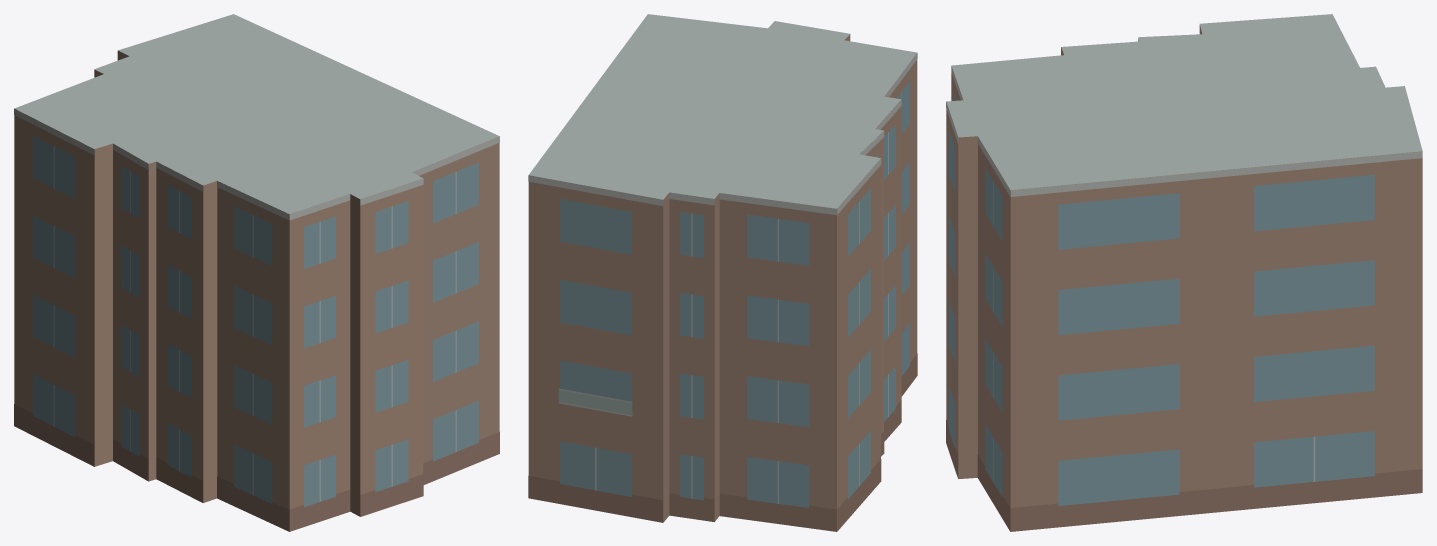
File: survey-upis-32821083.glb
3 views of the same model, side by side, from view 1: azimuth 30°, elevation 25°; view 2: azimuth 150°, elevation 25°; view 3: azimuth 270°, elevation 25° (orthographic). The views are drawn at different scales.
Visible parts, largest first — view 1: survey-upis-32821083.tmp; view 2: survey-upis-32821083.tmp; view 3: survey-upis-32821083.tmp.
Part boxes in pixels (x1,y1,x2,y2): survey-upis-32821083.tmp: (14, 14, 499, 531); survey-upis-32821083.tmp: (528, 14, 917, 531); survey-upis-32821083.tmp: (946, 14, 1422, 531).
Size of the model in its own units: 13.51 by 12.2 by 15.43.
